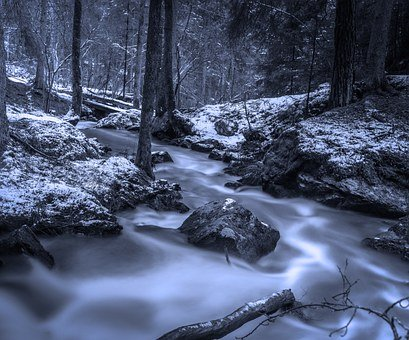forest: (2, 1, 397, 167)
stone: (191, 95, 409, 216)
tree: (10, 1, 186, 174), (224, 1, 401, 105)
